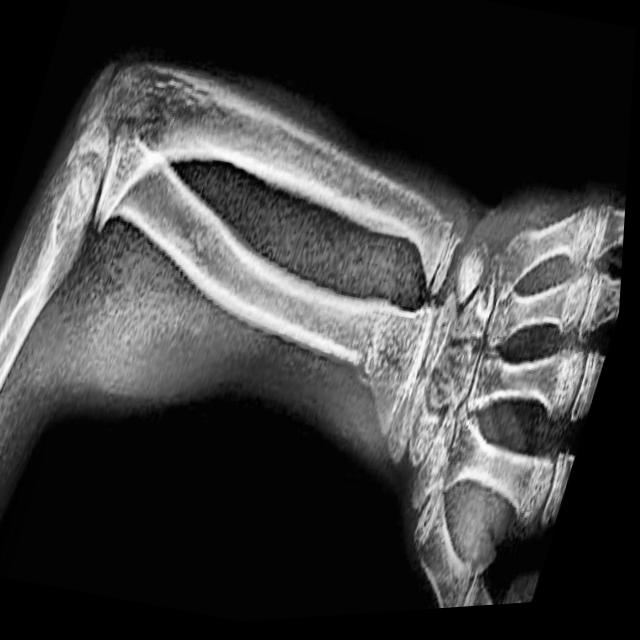fracture: (350, 296, 401, 401)
